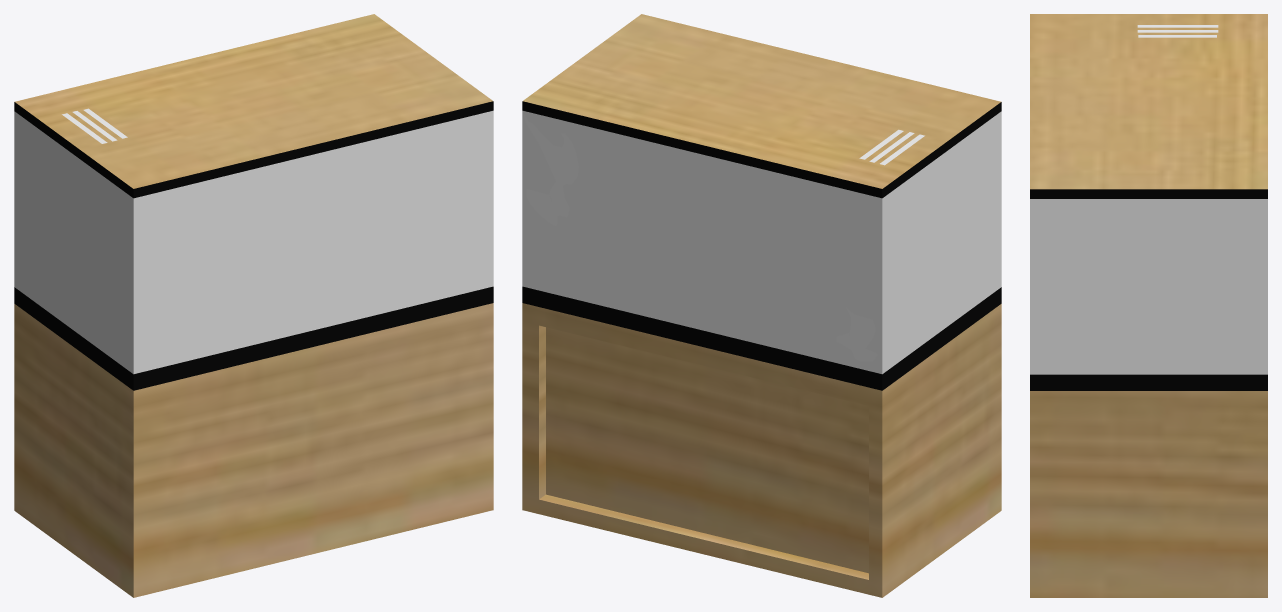
The model's file is Basetapa.obj.
3 renders of one model, left to right at view 1: azimuth 30°, elevation 25°; view 2: azimuth 150°, elevation 25°; view 3: azimuth 270°, elevation 25°, orthographic.
Visible parts, largest first — view 1: d_model2:Layer0_001; view 2: d_model2:Layer0_001; view 3: d_model2:Layer0_001.
Boxes of the visible parts, left/top/right/bottom form: d_model2:Layer0_001: left=14, top=14, right=493, bottom=597; d_model2:Layer0_001: left=522, top=14, right=1001, bottom=597; d_model2:Layer0_001: left=1030, top=14, right=1267, bottom=597.
Size of the model in its own units: 7.73 by 8.4 by 4.43.
5 materials, 3 textured.
